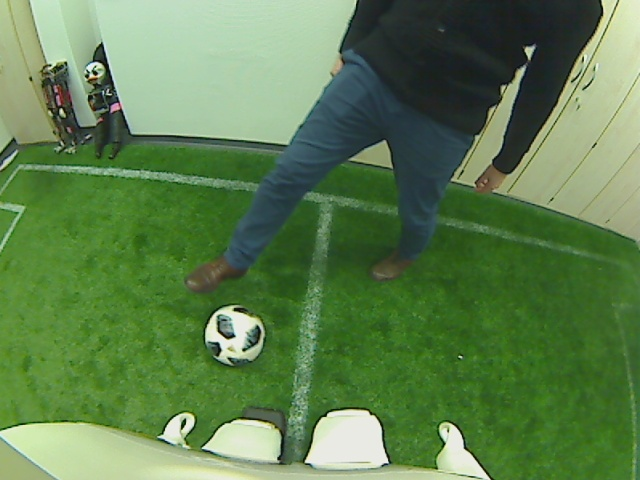ball: (201, 304, 266, 367)
